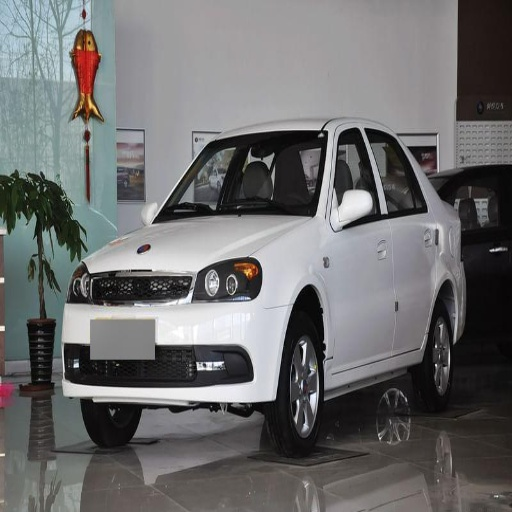front_bumper: (59, 268, 291, 404)
front_glass: (154, 132, 325, 223)
front_left_door: (330, 126, 396, 375)
